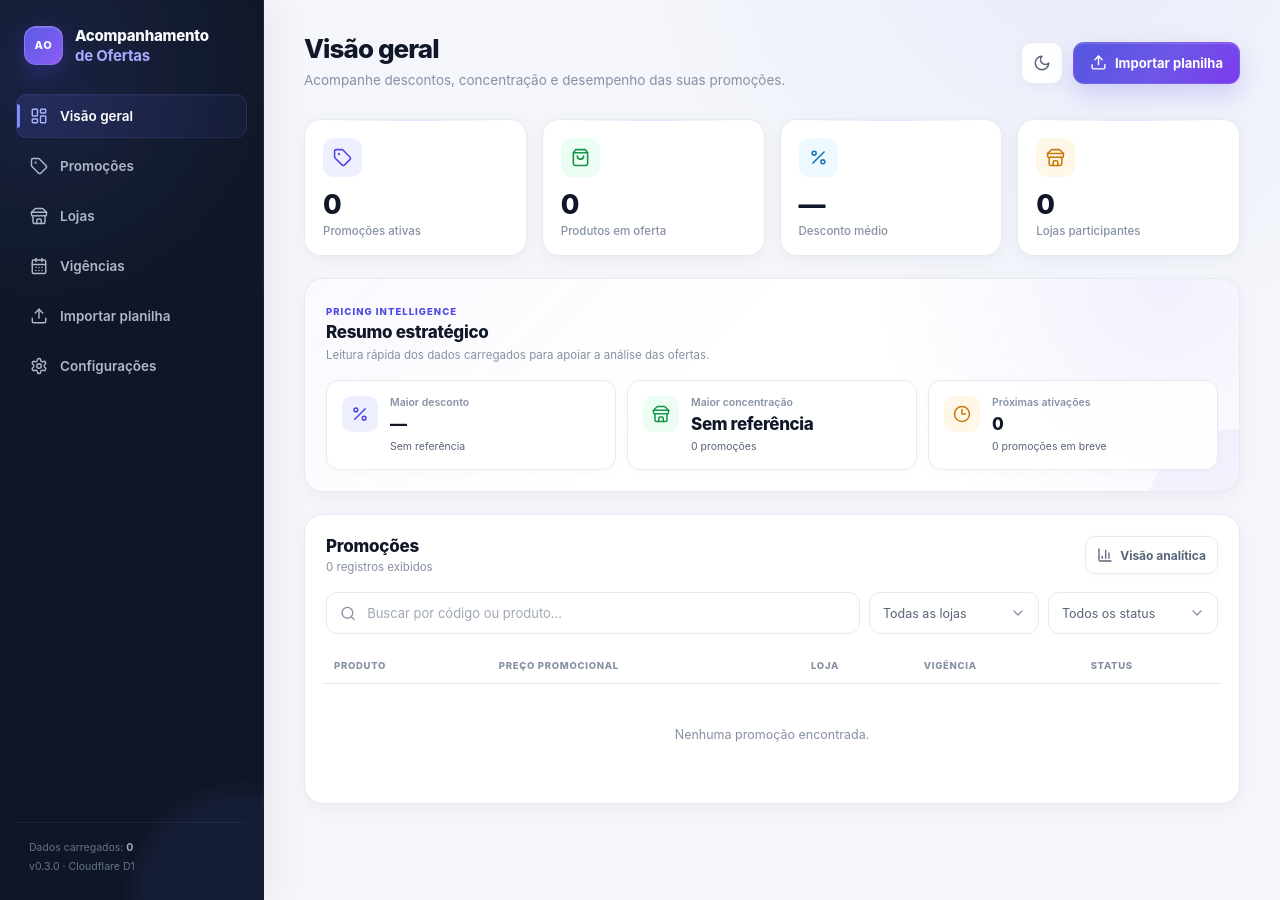
Test: alternância de tema › alterna entre tema claro e escuro e persiste a preferência
Click the button named "ativar modo escuro".
click(1042, 62)  # box left=1021, top=42, right=1063, bottom=84
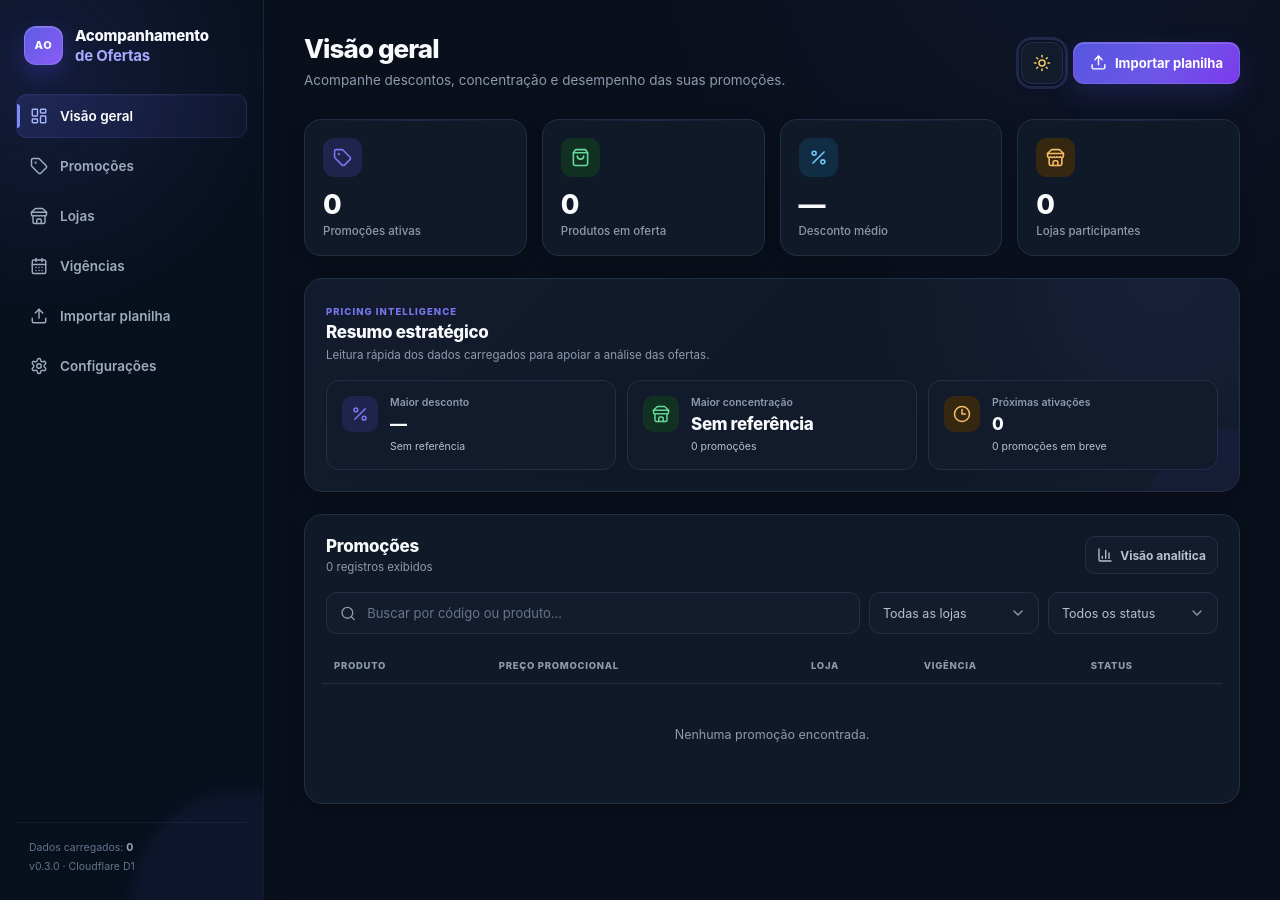
Check: the button named "ativar modo claro" is shown, box left=1021, top=42, right=1063, bottom=84
